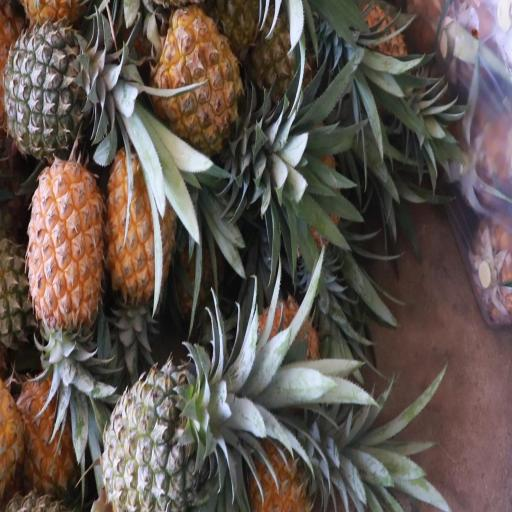Pineapple - v8 v1: (154, 11, 270, 151), (30, 158, 102, 371), (103, 150, 175, 314)
